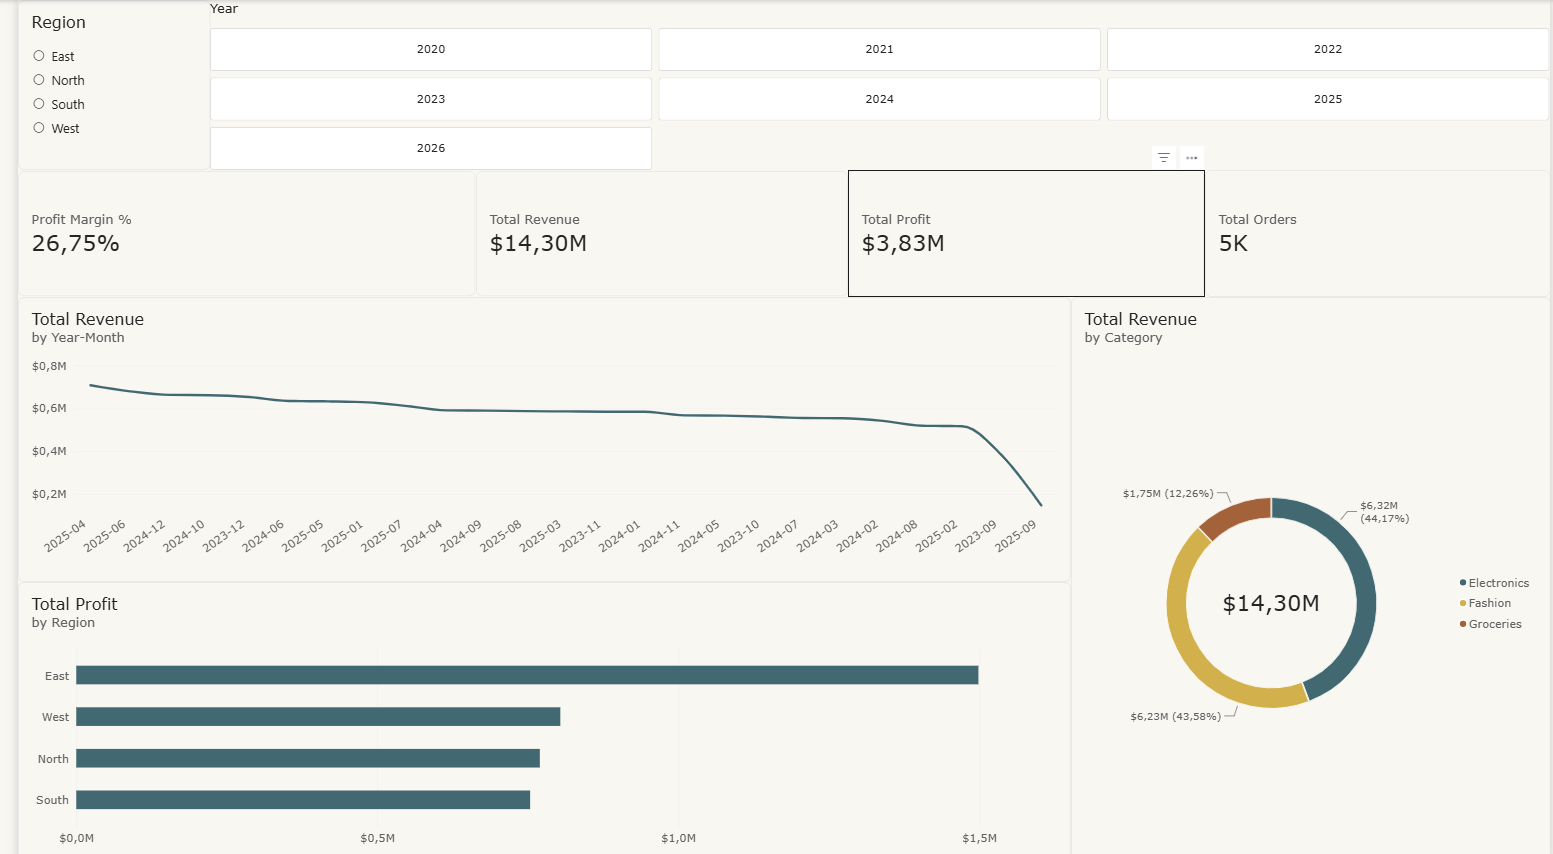

The dashboard page shown, as its layout file describes it:
{"tool":"powerbi","page":{"name":"Page 1","canvas":[1920,1080],"ordinal":0},"visuals":[{"type":"cardVisual","fields":{"Data":["_Measures.Total Revenue"]},"box":[573.4,214.5,466.9,157.6],"z":0},{"type":"cardVisual","fields":{"Data":["_Measures.Total Orders"]},"box":[1486.7,213,433.3,159],"z":1000},{"type":"cardVisual","fields":{"Data":["_Measures.Profit Margin %"]},"box":[0,214.5,573.4,157.6],"z":2000},{"type":"cardVisual","fields":{"Data":["_Measures.Total Profit"]},"box":[1040.2,213,446.4,159],"z":3000},{"type":"lineChart","fields":{"Category":["Dim_Date.Year-Month"],"Y":["_Measures.Total Revenue"]},"box":[0,372,1318.9,357.4],"z":4000},{"type":"donutChart","fields":{"Category":["Products.Category"],"Y":["_Measures.Total Revenue"]},"box":[1318.9,372,601.1,707.6],"z":5000},{"type":"clusteredBarChart","fields":{"Category":["Stores.Region"],"Y":["_Measures.Total Profit"]},"box":[0,729.5,1318.9,350.2],"z":6000},{"type":"advancedSlicerVisual","fields":{"Values":["Dim_Date.Year"]},"box":[240.7,0,1679.3,213],"z":7000},{"type":"listSlicer","fields":{"Values":["Stores.Region"]},"box":[0,0,240.7,213],"z":8000}]}

Visuals, with their boxes in screenshot pixels (x1, y1, x2, y2), scaled from the page's 1920x1080 canvas onto the 1553x854 screenshot:
cardVisual - _Measures.Total Revenue: bbox=[464, 170, 841, 294]
cardVisual - _Measures.Total Orders: bbox=[1203, 168, 1552, 294]
cardVisual - _Measures.Profit Margin %: bbox=[0, 170, 464, 294]
cardVisual - _Measures.Total Profit: bbox=[841, 168, 1202, 294]
lineChart - Dim_Date.Year-Month x _Measures.Total Revenue: bbox=[0, 294, 1067, 577]
donutChart - Products.Category x _Measures.Total Revenue: bbox=[1067, 294, 1552, 853]
clusteredBarChart - Stores.Region x _Measures.Total Profit: bbox=[0, 577, 1067, 853]
advancedSlicerVisual - Dim_Date.Year: bbox=[195, 0, 1552, 168]
listSlicer - Stores.Region: bbox=[0, 0, 195, 168]
